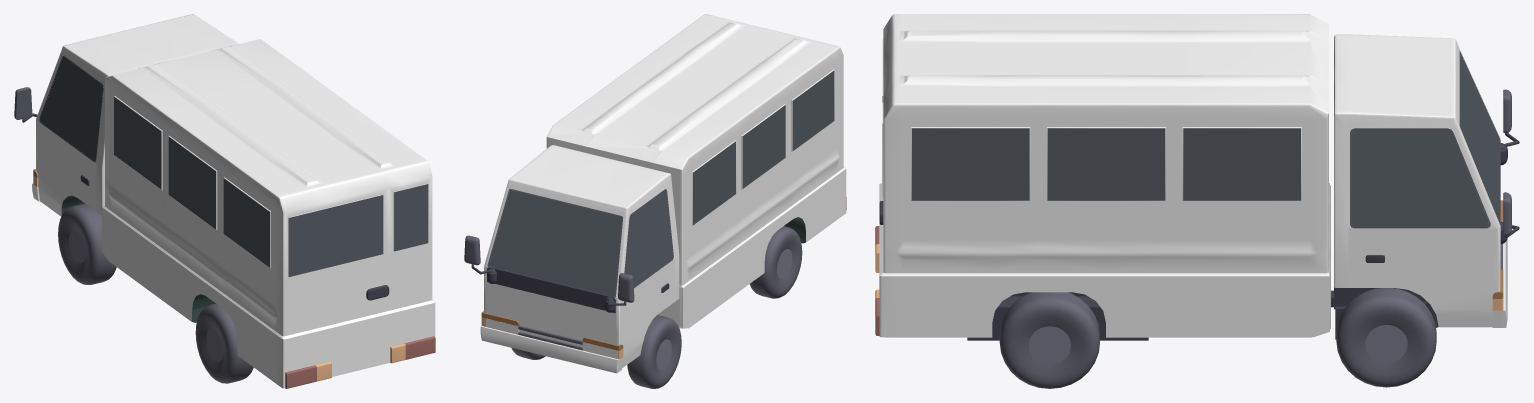
Rendered from minibus.glb.
3 views of the same model, side by side, from view 1: azimuth 30°, elevation 25°; view 2: azimuth 150°, elevation 25°; view 3: azimuth 270°, elevation 25° (orthographic). The views are drawn at different scales.
Visible parts, largest first — view 1: paint, glass, wheel_fl, wheel_rl, body, tail; view 2: paint, glass, body, wheel_fl, wheel_rl; view 3: paint, glass, wheel_fr, wheel_rr, body.
Part boxes in pixels (x1,y1,x2,y2): paint: (32, 14, 435, 388); glass: (16, 57, 428, 276); wheel_fl: (58, 203, 116, 284); wheel_rl: (195, 303, 253, 383); body: (14, 56, 405, 381); tail: (285, 336, 435, 388); paint: (480, 14, 846, 373); glass: (489, 70, 834, 296); body: (464, 189, 805, 359); wheel_fl: (627, 315, 681, 388); wheel_rl: (749, 226, 802, 298); paint: (879, 14, 1507, 337); glass: (912, 53, 1500, 226); wheel_fr: (1336, 288, 1436, 387); wheel_rr: (999, 292, 1099, 388); body: (875, 51, 1519, 340).
Bounding box in the file's own units: 2.55 × 3.04 × 6.14.
